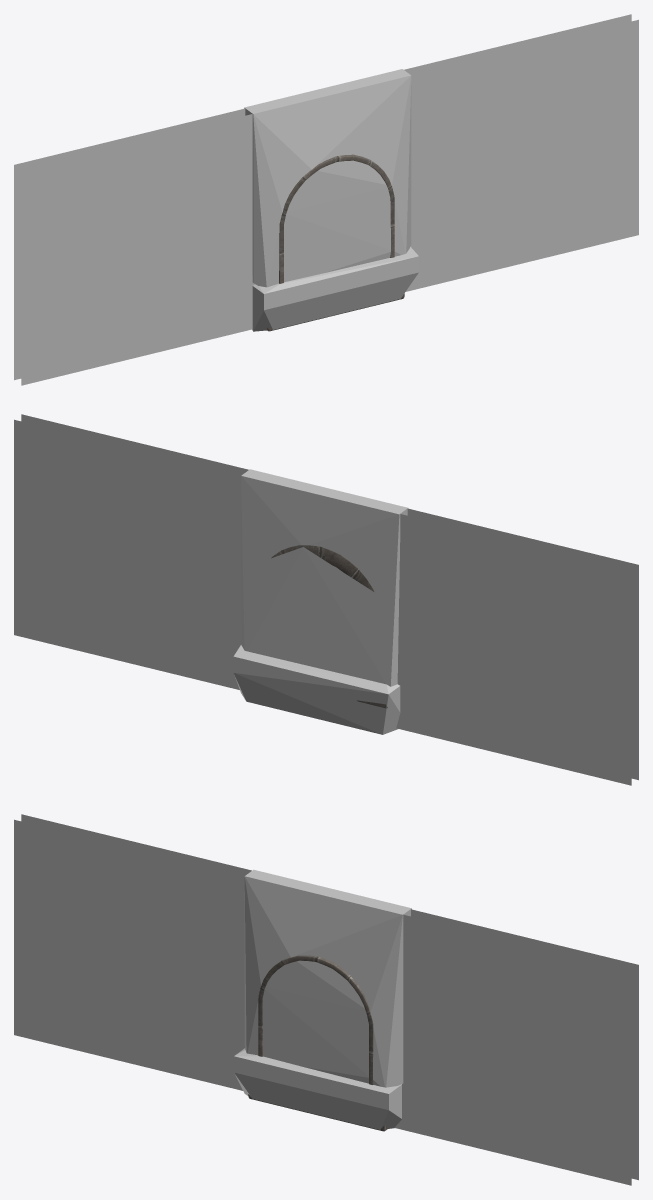
Rendered from SM_Small_Window_Half.fbx.
3 views of the same model, one above another, from view 1: azimuth 30°, elevation 25°; view 2: azimuth 150°, elevation 25°; view 3: azimuth 330°, elevation 25° (orthographic).
Parts seen in each view (by area): view 1: SM_Small_Window_Half, SM_Small_Window_Half_ConvexHulls; view 2: SM_Small_Window_Half, SM_Small_Window_Half_ConvexHulls; view 3: SM_Small_Window_Half, SM_Small_Window_Half_ConvexHulls.
Part boxes in pixels (<box>): SM_Small_Window_Half: <box>14,14,638,385</box>; SM_Small_Window_Half_ConvexHulls: <box>244,69,418,331</box>; SM_Small_Window_Half: <box>14,414,638,785</box>; SM_Small_Window_Half_ConvexHulls: <box>233,469,408,734</box>; SM_Small_Window_Half: <box>14,814,638,1185</box>; SM_Small_Window_Half_ConvexHulls: <box>234,869,411,1129</box>.
Size of the model in its own units: 600 by 51.26 by 202.
